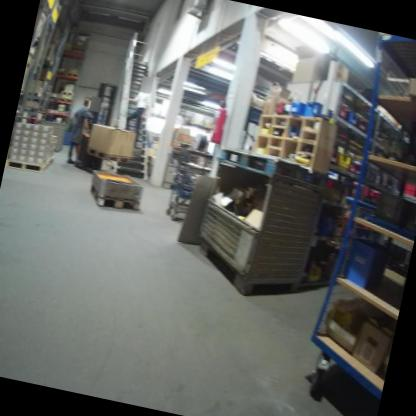pallet: (84, 180, 145, 218), (4, 148, 54, 177), (82, 143, 134, 166)
pallet_truck: (65, 73, 124, 173)
small_load_carrier: (340, 236, 390, 294), (374, 192, 416, 232)
stillage: (186, 155, 334, 313), (156, 142, 210, 198), (33, 118, 70, 156)
